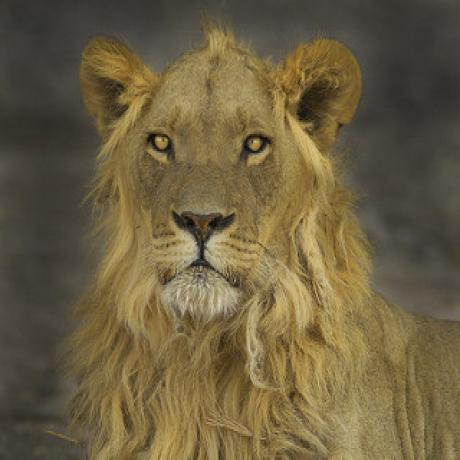Lion: (72, 10, 460, 460)
